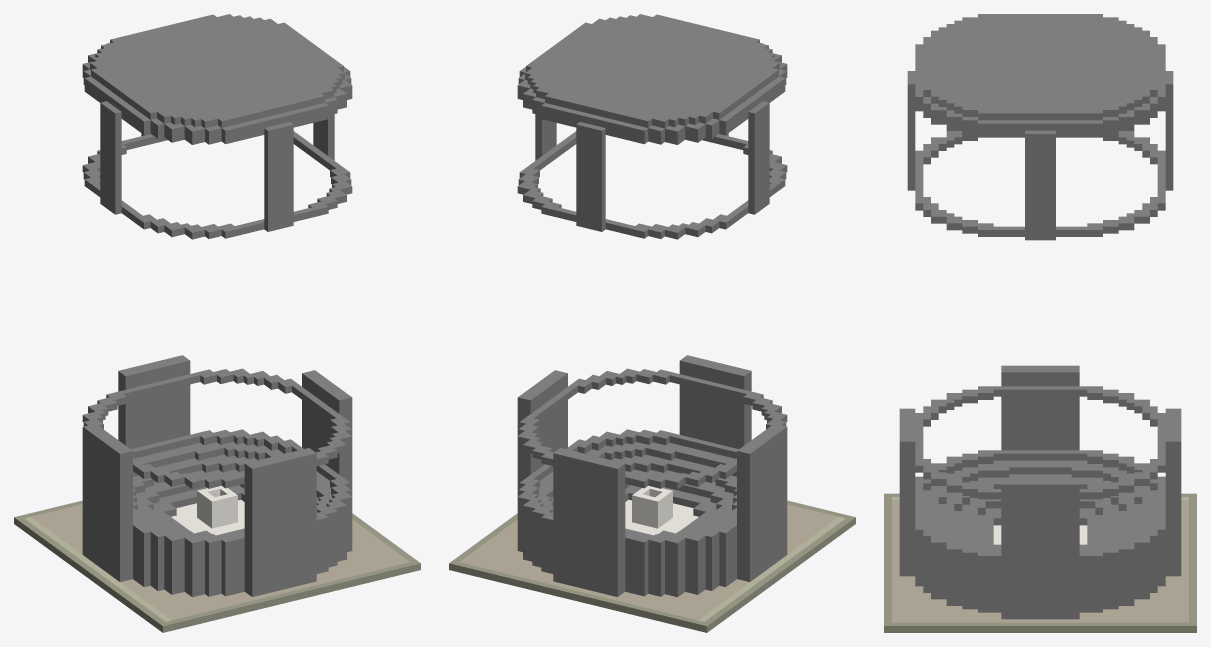
Rendered from HumanTube_01.obj.
The picture shows the model from 3 angles, left to right: view 1: azimuth 30°, elevation 25°; view 2: azimuth 150°, elevation 25°; view 3: azimuth 270°, elevation 25°; orthographic projection. The views are drawn at different scales.
Size of the model in its own units: 40 by 71 by 40.
1 material, 1 textured.
